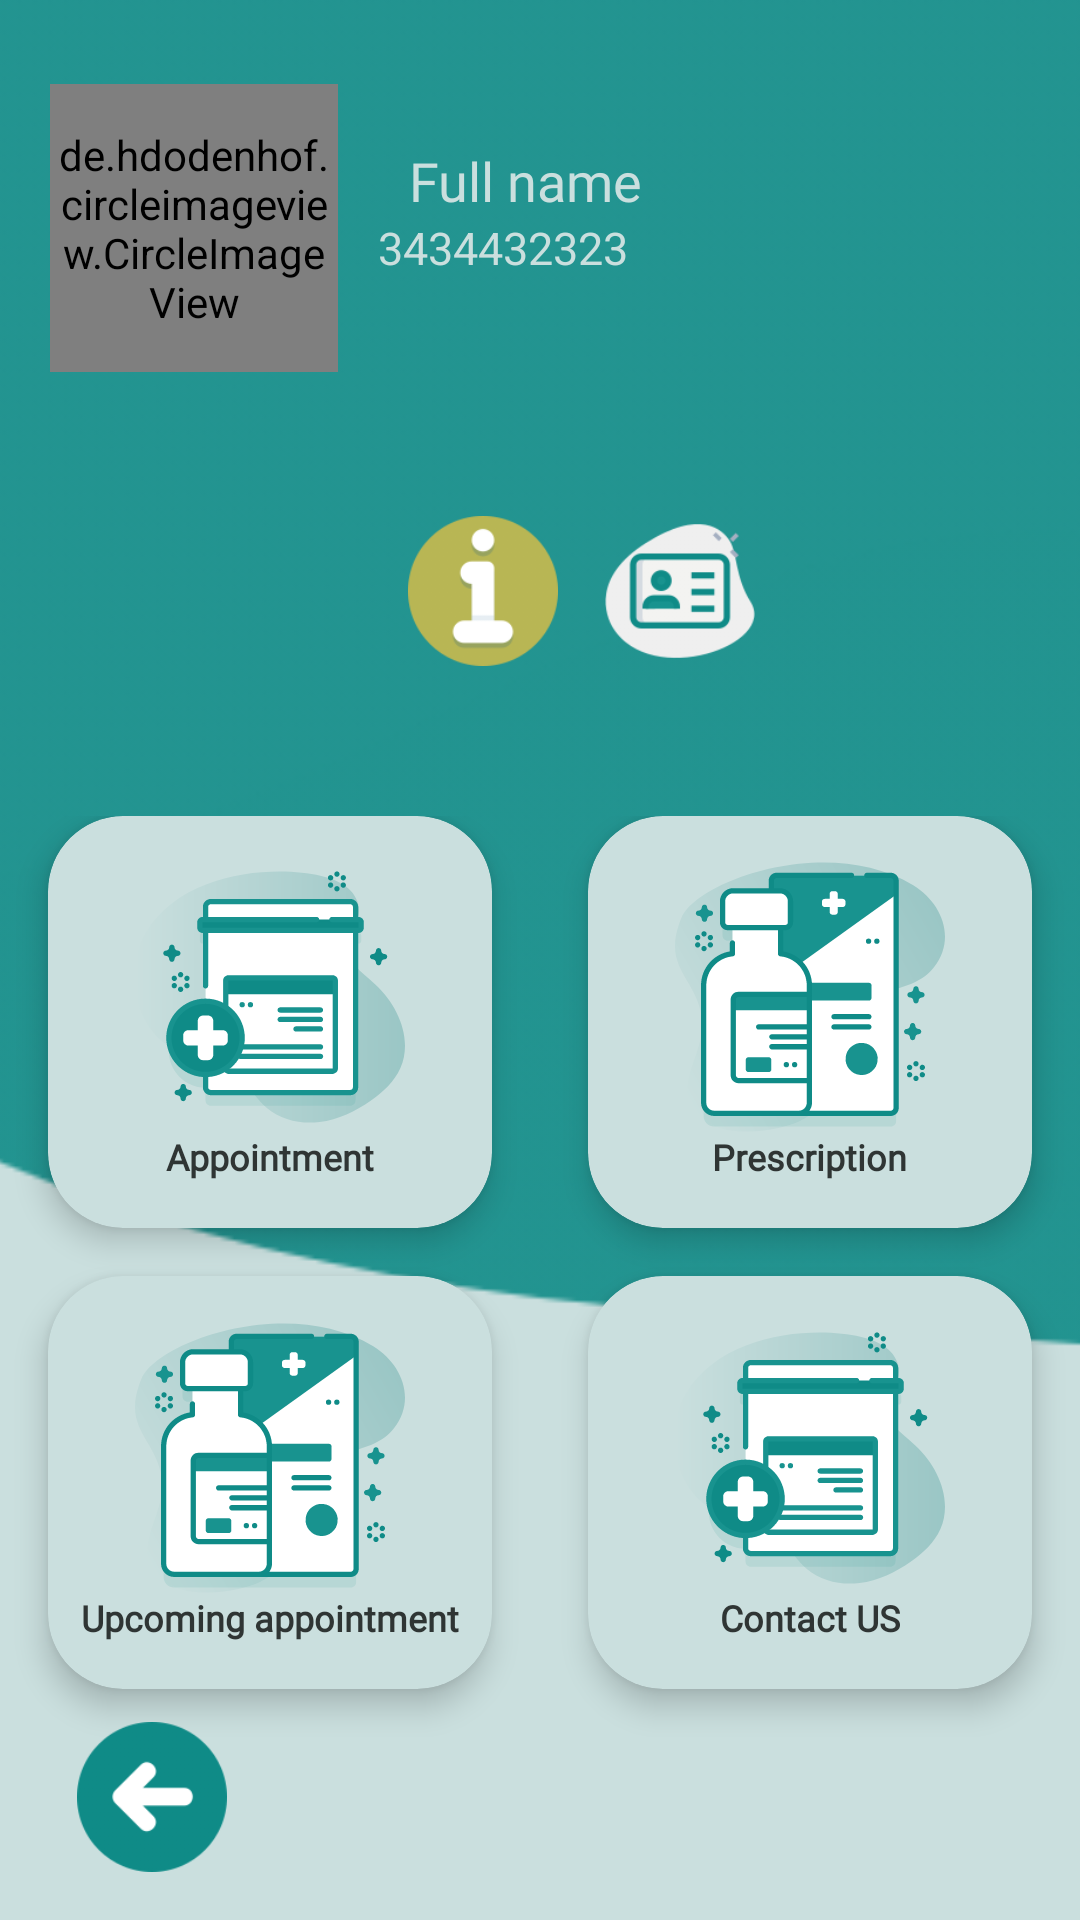

Screen size 1080×1920. Icon name, then its center in pixels as point (x, y):
idcardpatient: point (680, 591)
instruction: point (483, 591)
previouspatient: point (152, 1797)
